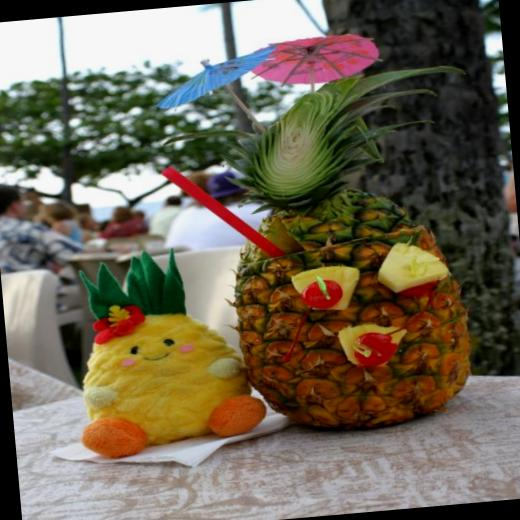Mango: (68, 244, 253, 452)
